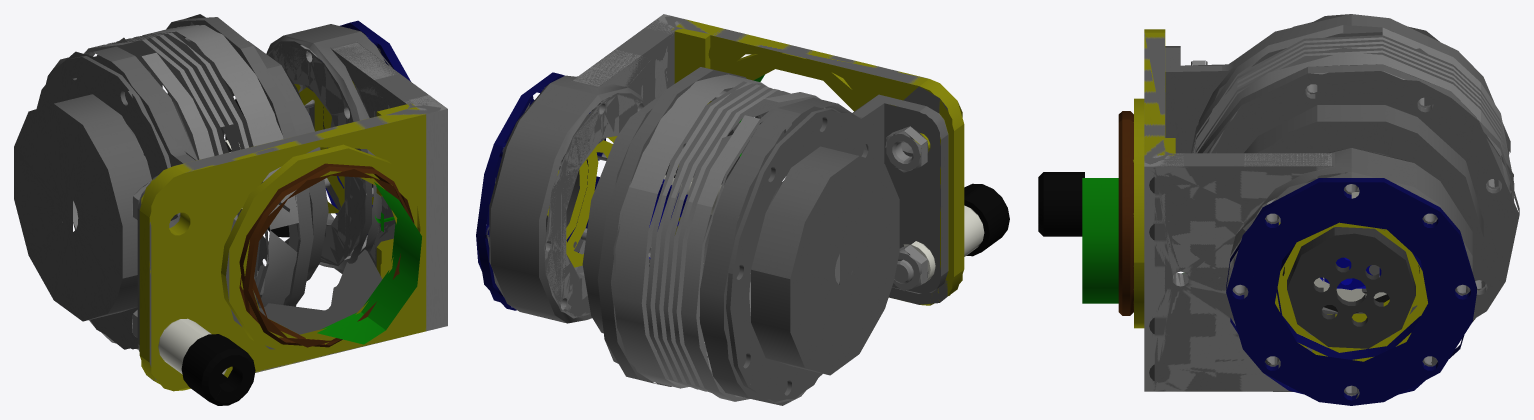
Rendered from arml_sho2_joint.obj.
3 views of the same model, side by side, from view 1: azimuth 30°, elevation 25°; view 2: azimuth 150°, elevation 25°; view 3: azimuth 270°, elevation 25° (orthographic). The views are drawn at different scales.
Bounding box in the file's own units: 0.075 × 0.0639 × 0.093.
Materials: 1 (1 with a texture image).
